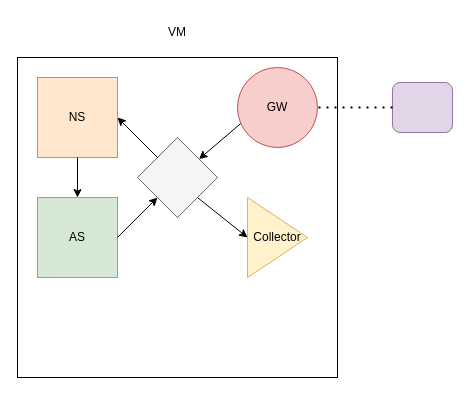
The diagram is 470 pixels wide and 395 high, and some of its shapes have lost their labels. Each missing label, with the box of its shape:
Device: (392, 82, 452, 132)
MQTT: (136, 136, 218, 218)
